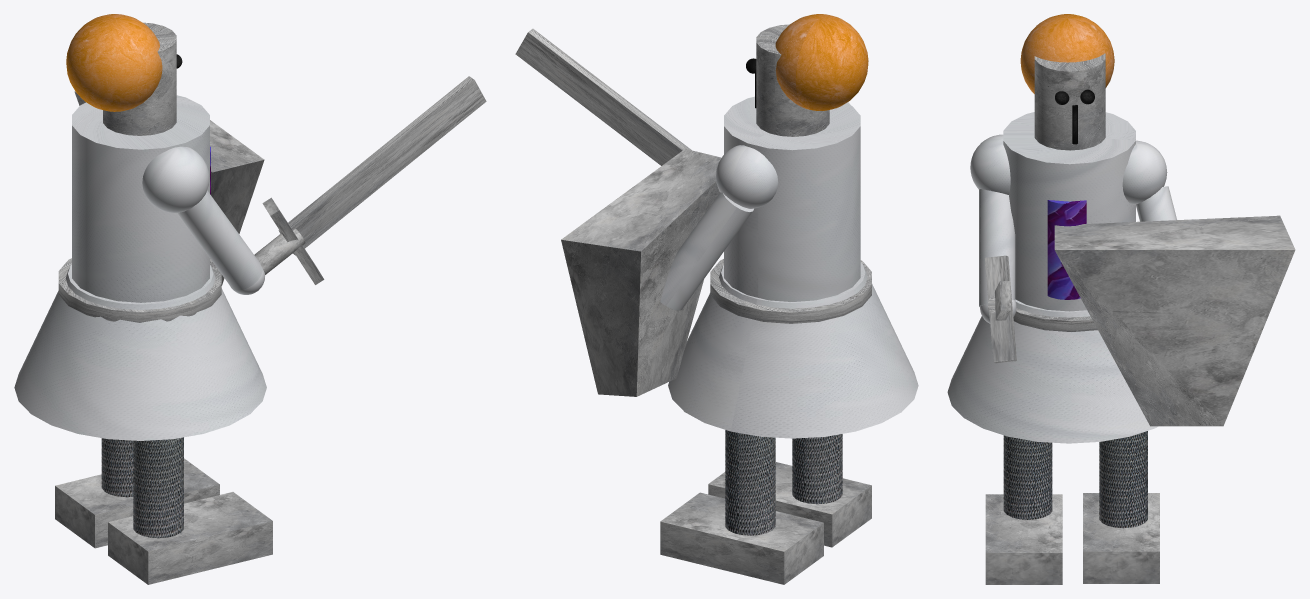
The model's file is GUERRERO_NIVEL_2.fbx.
3 views of the same model, side by side, from view 1: azimuth 30°, elevation 25°; view 2: azimuth 150°, elevation 25°; view 3: azimuth 270°, elevation 25° (orthographic). The views are drawn at different scales.
Visible parts, largest first — view 1: Cone001, Cylinder003, Box001, Sphere020, Box007, Cylinder001, Box002, Cylinder010, Box011, Cylinder004, Sphere001, Cylinder005 (+3 smaller); view 2: Cone001, Box011, Cylinder003, Box002, Sphere020, Box007, Cylinder002, Cylinder017, Box001, Cylinder004, Cylinder001, Cylinder005 (+1 smaller); view 3: Box011, Cone001, Cylinder003, Box001, Cylinder004, Box002, Cylinder002, Sphere020, Cylinder001, Cylinder010, Cylinder019, Sphere019 (+5 smaller).
Boxes of the visible parts, x1=… form: Cone001: x1=14, y1=264, x2=266, y2=440; Cylinder003: x1=72, y1=95, x2=209, y2=302; Box001: x1=108, y1=492, x2=272, y2=584; Sphere020: x1=66, y1=14, x2=162, y2=111; Box007: x1=278, y1=76, x2=486, y2=255; Cylinder001: x1=133, y1=437, x2=183, y2=538; Box002: x1=55, y1=458, x2=219, y2=548; Cylinder010: x1=177, y1=190, x2=262, y2=290; Box011: x1=74, y1=91, x2=264, y2=285; Cylinder004: x1=103, y1=22, x2=176, y2=135; Sphere001: x1=142, y1=146, x2=209, y2=212; Cylinder005: x1=58, y1=258, x2=221, y2=322; Cone001: x1=668, y1=262, x2=918, y2=438; Box011: x1=561, y1=148, x2=721, y2=396; Cylinder003: x1=724, y1=96, x2=860, y2=301; Box002: x1=660, y1=492, x2=823, y2=584; Sphere020: x1=775, y1=14, x2=868, y2=110; Box007: x1=515, y1=28, x2=691, y2=165; Cylinder002: x1=725, y1=430, x2=775, y2=535; Cylinder017: x1=660, y1=192, x2=753, y2=310; Box001: x1=708, y1=462, x2=871, y2=547; Cylinder004: x1=756, y1=24, x2=829, y2=136; Cylinder001: x1=792, y1=434, x2=842, y2=504; Cylinder005: x1=710, y1=259, x2=871, y2=323; Box011: x1=1054, y1=215, x2=1295, y2=426; Cone001: x1=947, y1=299, x2=1158, y2=443; Cylinder003: x1=1003, y1=112, x2=1135, y2=311; Box001: x1=985, y1=494, x2=1062, y2=584; Cylinder004: x1=1034, y1=53, x2=1105, y2=150; Box002: x1=1083, y1=493, x2=1159, y2=583; Cylinder002: x1=1099, y1=431, x2=1147, y2=528; Sphere020: x1=1020, y1=14, x2=1114, y2=93; Cylinder001: x1=1003, y1=435, x2=1052, y2=519; Cylinder010: x1=979, y1=189, x2=1015, y2=306; Cylinder019: x1=1047, y1=200, x2=1086, y2=299; Sphere019: x1=1122, y1=140, x2=1167, y2=204.
Bounding box in the file's own units: 0.3809 × 0.4618 × 0.2842.
6 materials, 6 textured.
